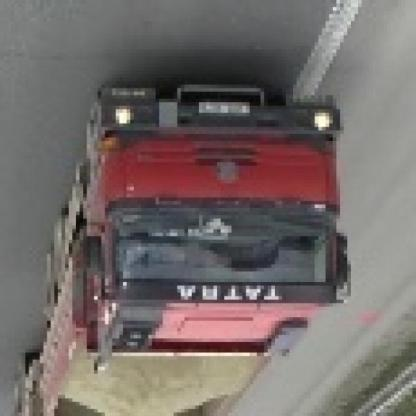truck: (12, 75, 348, 416)
